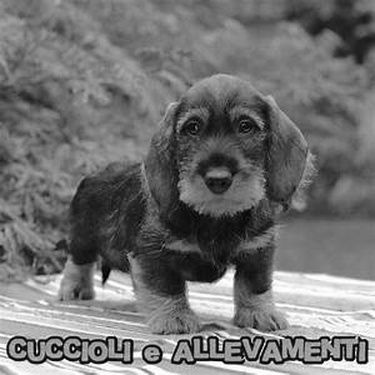dog: (50, 55, 316, 337)
